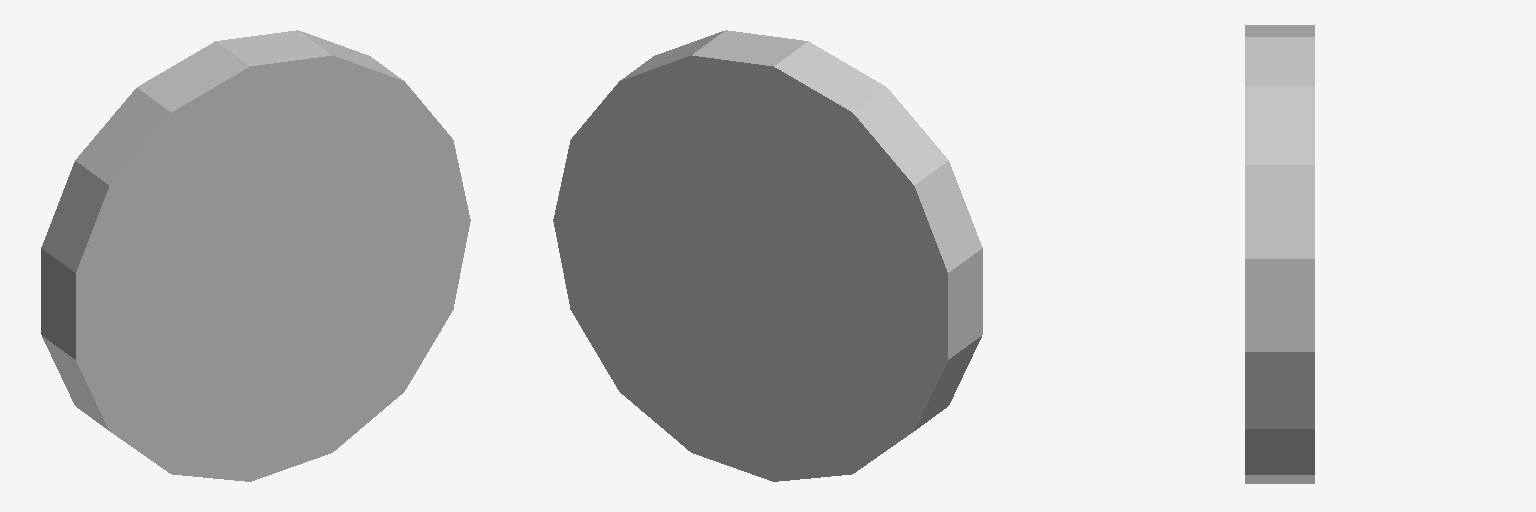
Rendered from 76. Заглушка.obj.
3 views of the same model, side by side, from view 1: azimuth 30°, elevation 25°; view 2: azimuth 150°, elevation 25°; view 3: azimuth 270°, elevation 25° (orthographic).
Visible parts, largest first — view 1: Твердое тело1; view 2: Твердое тело1; view 3: Твердое тело1.
Part boxes in pixels (left/top/right/bottom): Твердое тело1: left=41, top=30, right=470, bottom=481; Твердое тело1: left=553, top=30, right=982, bottom=481; Твердое тело1: left=1245, top=25, right=1314, bottom=483.
Size of the model in its own units: 19.78 by 19.89 by 3.